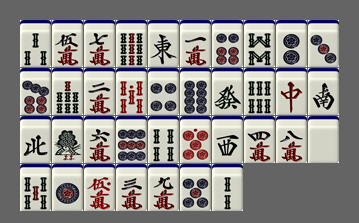0m: (84, 164, 115, 211)
0p: (180, 116, 211, 163)
0s: (116, 68, 147, 115)
1m: (180, 20, 211, 67)
1p: (52, 164, 83, 211)
1s: (52, 116, 83, 163)
1z: (148, 20, 179, 67)
2m: (84, 68, 115, 115)
2p: (276, 20, 307, 67)
2s: (212, 164, 243, 211)
2z: (308, 68, 339, 115)
3m: (116, 164, 147, 211)
3p: (308, 20, 339, 67)
3s: (20, 20, 51, 67)
3z: (212, 116, 243, 163)
4m: (244, 116, 275, 163)
4p: (148, 68, 179, 115)
4s: (148, 116, 179, 163)
4z: (20, 116, 51, 163)
5m: (52, 20, 83, 67)
5p: (180, 164, 211, 211)
5s: (20, 164, 51, 211)
5z: (308, 116, 339, 163)
6m: (84, 116, 115, 163)
6p: (212, 20, 243, 67)
6s: (244, 68, 275, 115)
6z: (212, 68, 243, 115)
7m: (84, 20, 115, 67)
7p: (20, 68, 51, 115)
7s: (52, 68, 83, 115)
7z: (276, 68, 307, 115)
8m: (276, 116, 307, 163)
8p: (180, 68, 211, 115)
8s: (244, 20, 275, 67)
9m: (148, 164, 179, 211)
9p: (116, 116, 147, 163)
9s: (116, 20, 147, 67)
